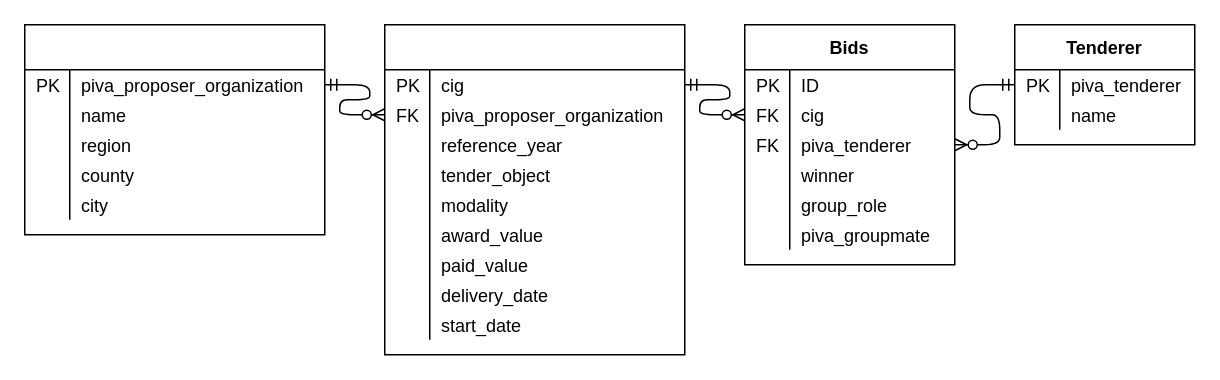
The diagram is 1220 pixels wide and 380 high, and some of its shapes have lost their labels. Here are the shapes that lost their labels. From the top down, the box of each, then its label:
(23, 23, 325, 235): Proposer Organizations
(383, 23, 685, 355): Tenders
